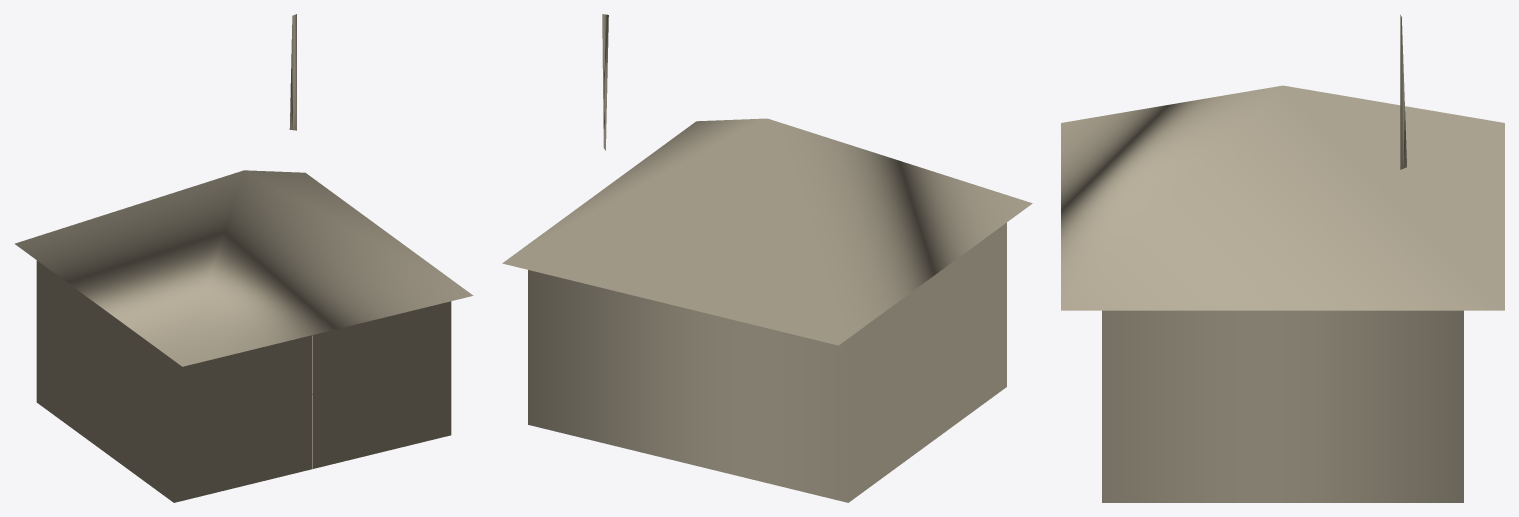
Rendered from camp_hq.lod2.glb.
The picture shows the model from 3 angles, left to right: view 1: azimuth 30°, elevation 25°; view 2: azimuth 150°, elevation 25°; view 3: azimuth 270°, elevation 25°; orthographic projection. The views are drawn at different scales.
Bounding box in the file's own units: 3.68 × 4.2 × 3.68.
